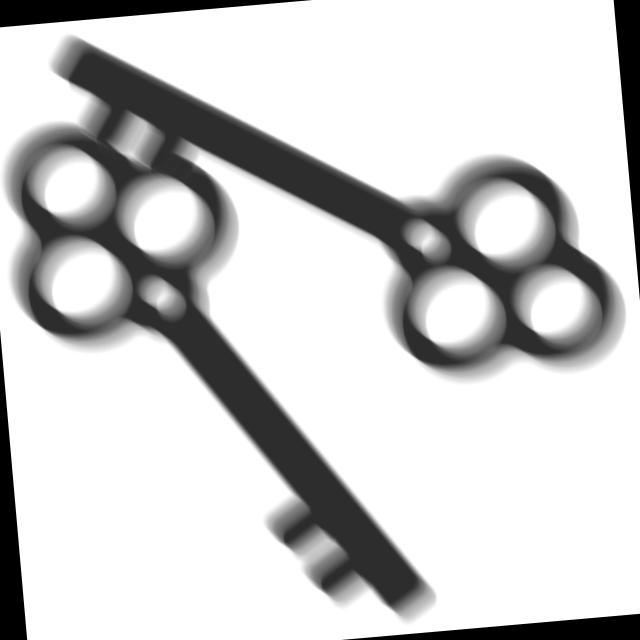key: (1, 63, 451, 640), (1, 22, 637, 400)
